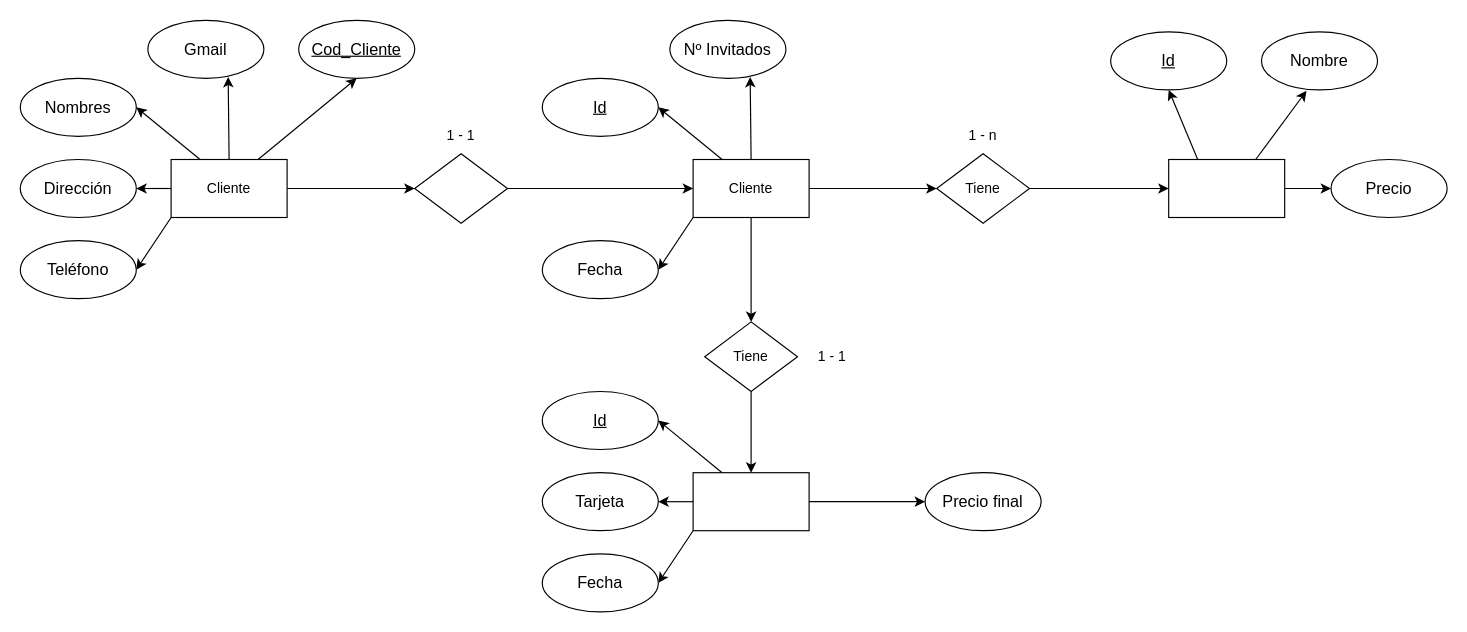
The diagram is 1467 pixels wide and 632 high, and some of its shapes have lost their labels. The shapes that lost their labels are listed below. From the top down, each one's centre as x and y in pixels, then its label:
At point 460,188: "Contrata".
At point 1226,187: "Prestaciones".
At point 750,501: "Factura".
